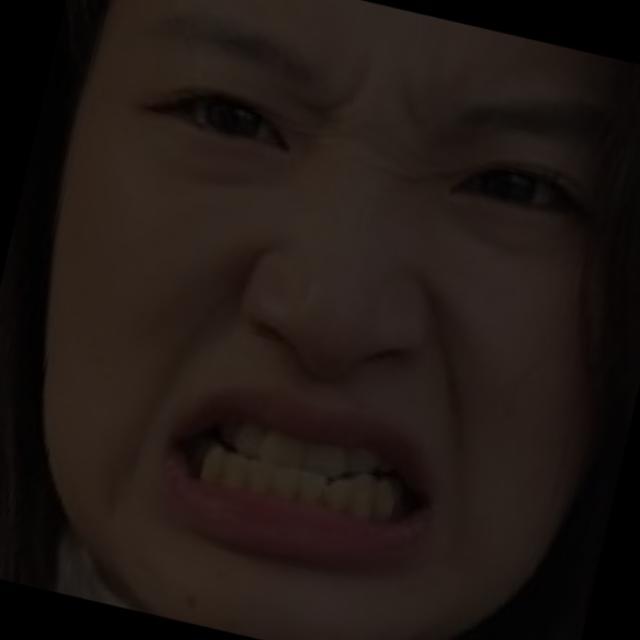Angry: (90, 14, 639, 640)
